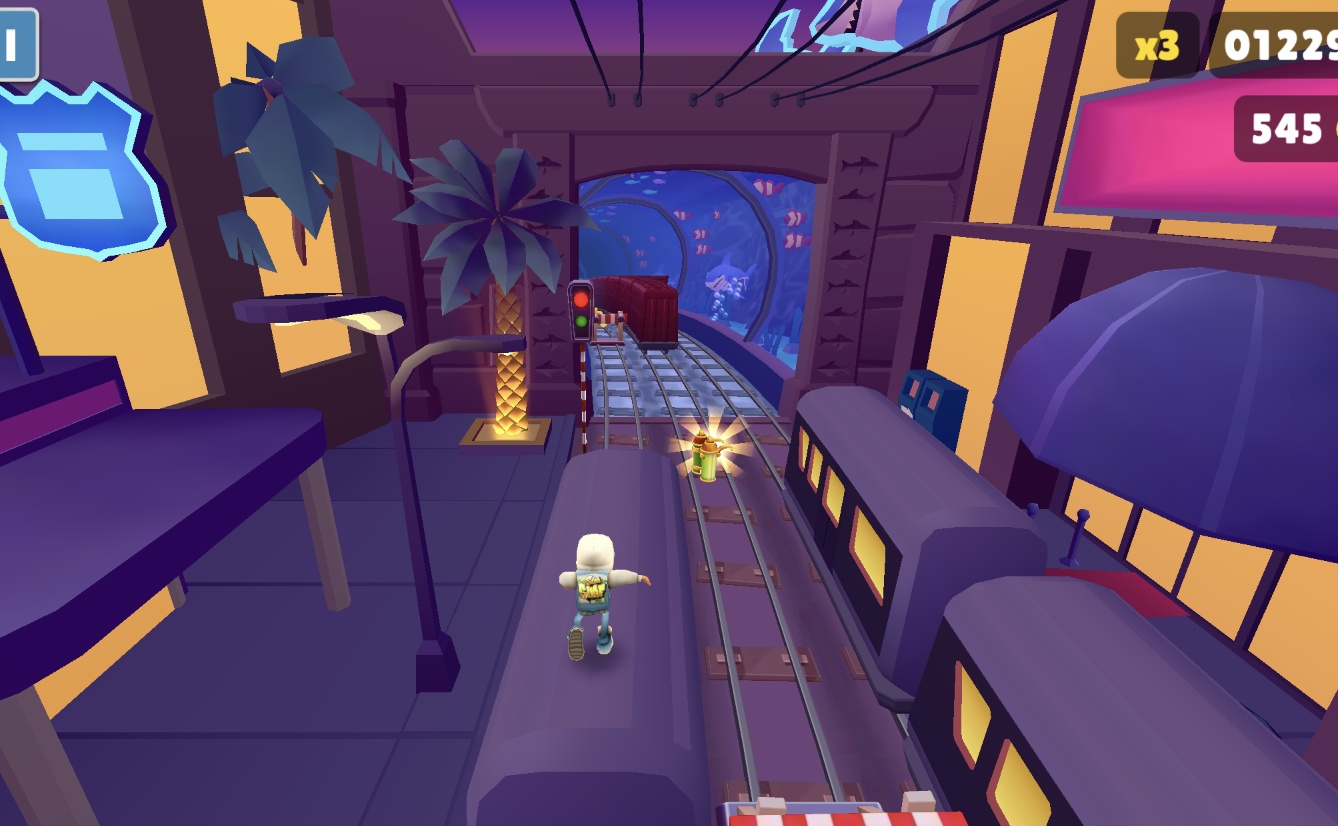ground_barrier: (721, 791, 936, 826)
overhead_barrier: (584, 302, 624, 349)
train: (781, 382, 1338, 826), (437, 464, 739, 826), (584, 277, 676, 342)
